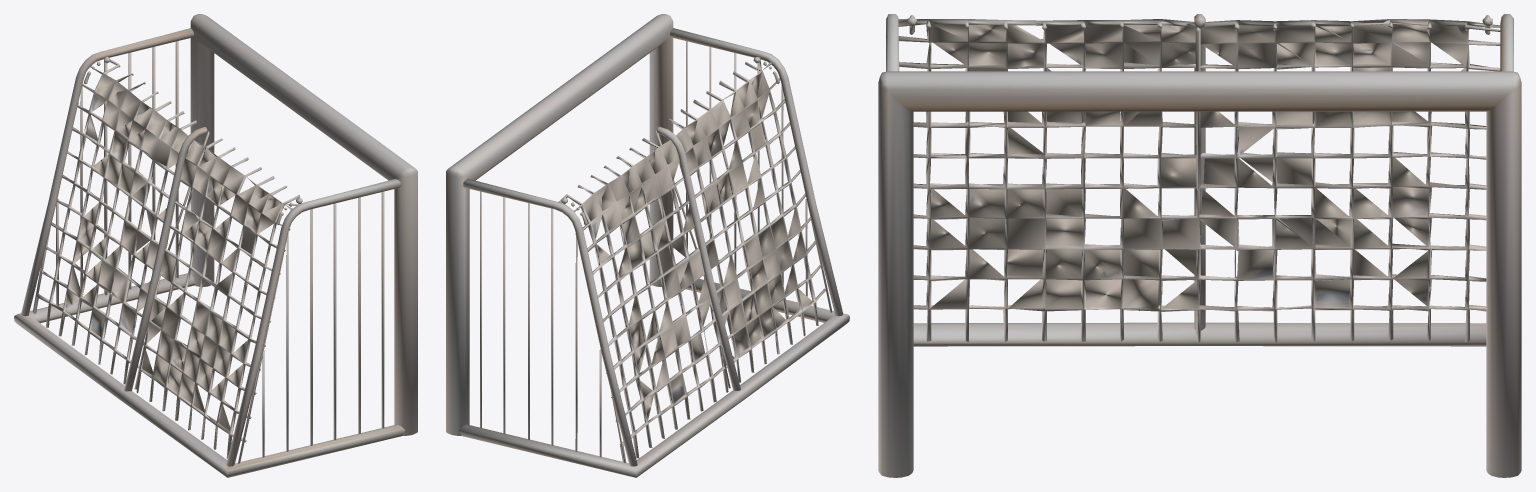
File: goal.glb
3 views of the same model, side by side, from view 1: azimuth 30°, elevation 25°; view 2: azimuth 150°, elevation 25°; view 3: azimuth 270°, elevation 25° (orthographic). The views are drawn at different scales.
Visible parts, largest first — view 1: Football goal; view 2: Football goal; view 3: Football goal.
Part boxes in pixels (x1=…): Football goal: x1=14, y1=14, x2=417, y2=477; Football goal: x1=446, y1=14, x2=849, y2=477; Football goal: x1=878, y1=14, x2=1521, y2=477.
Size of the model in its own units: 0.5215 by 0.6855 by 0.998.
Materials: 1 (1 with a texture image).
